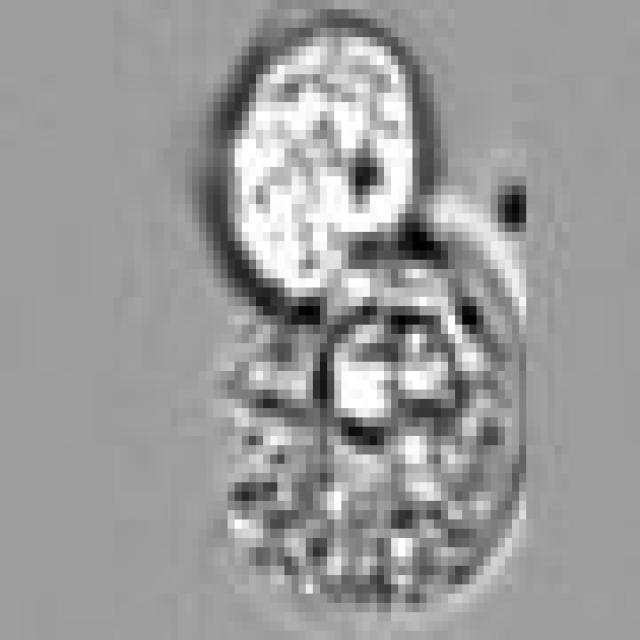Cancer Cell: (242, 194, 533, 594)
WBC: (220, 18, 420, 297)
